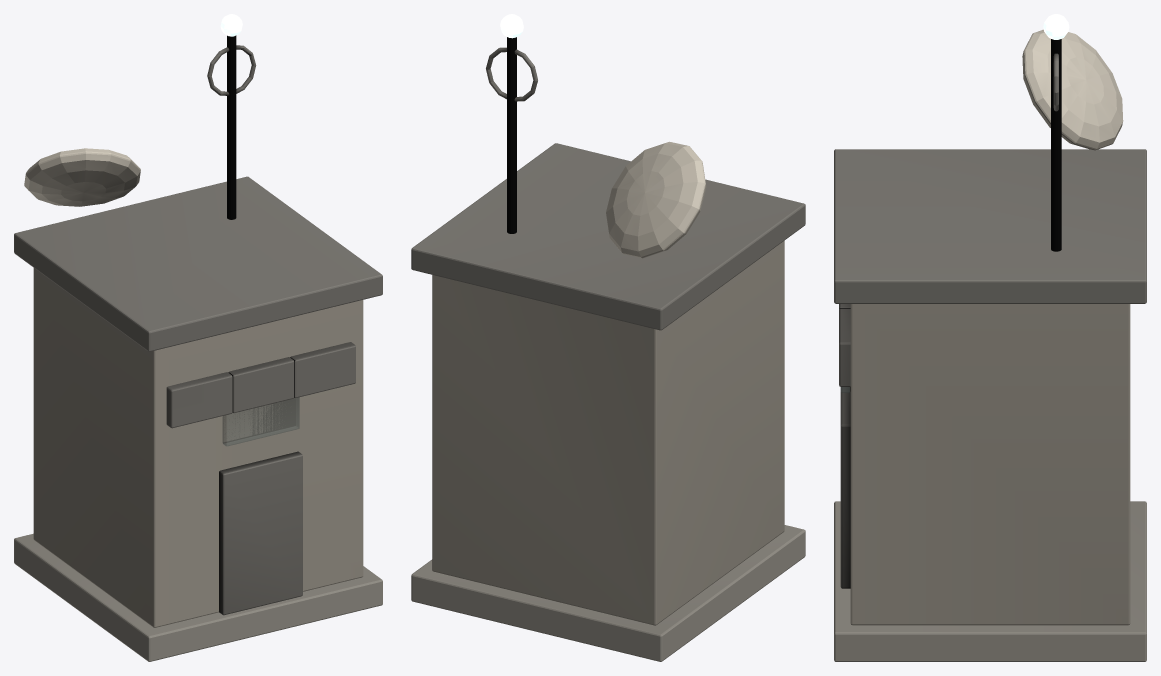
The model's file is lab.glb.
3 renders of one model, left to right at view 1: azimuth 30°, elevation 25°; view 2: azimuth 150°, elevation 25°; view 3: azimuth 270°, elevation 25°, orthographic. The views are drawn at different scales.
Parts seen in each view (by area): view 1: base; view 2: base; view 3: base.
Part boxes in pixels (bbox=[...]): base: bbox=[14, 14, 382, 661]; base: bbox=[411, 14, 805, 661]; base: bbox=[834, 14, 1146, 661].
Bounding box in the file's own units: 1.99 × 4.13 × 1.9.
